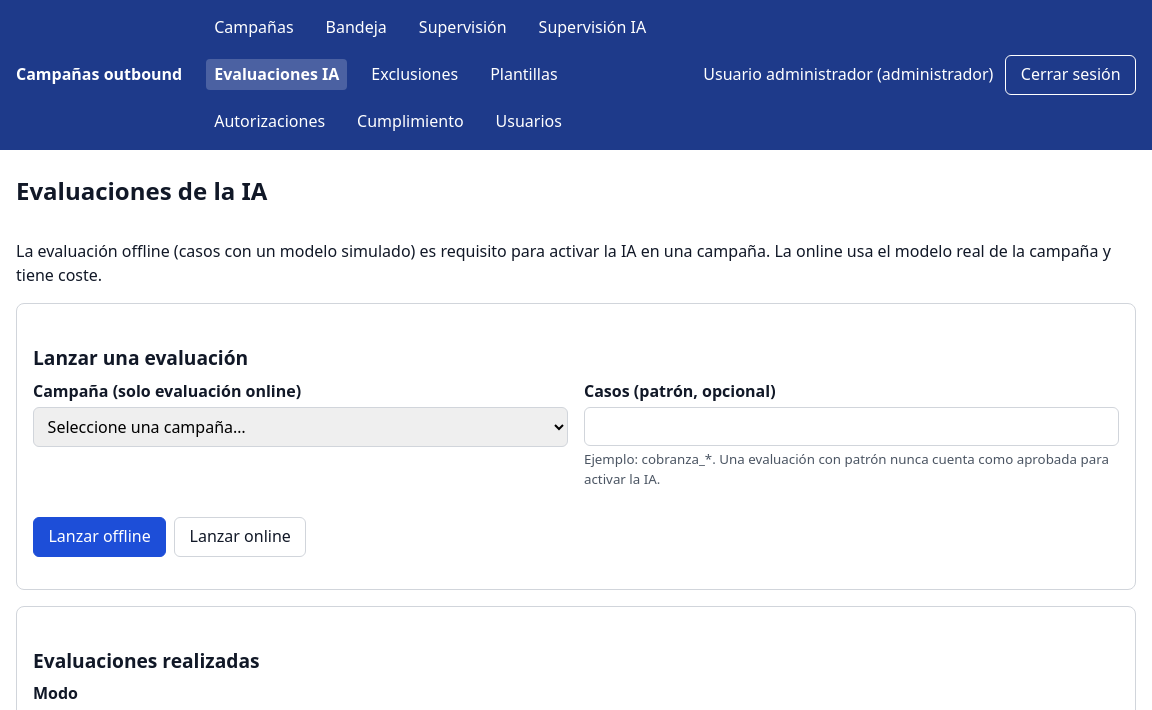
Evaluaciones de la IA (F23) › online exige campaña antes de enviar y explica de forma legible el 409 IA_PROVEEDOR_NO_CONFIGURADO
Click the button "Lanzar online". click: (240, 537)
box: x1=174 y1=517 x2=306 y2=557
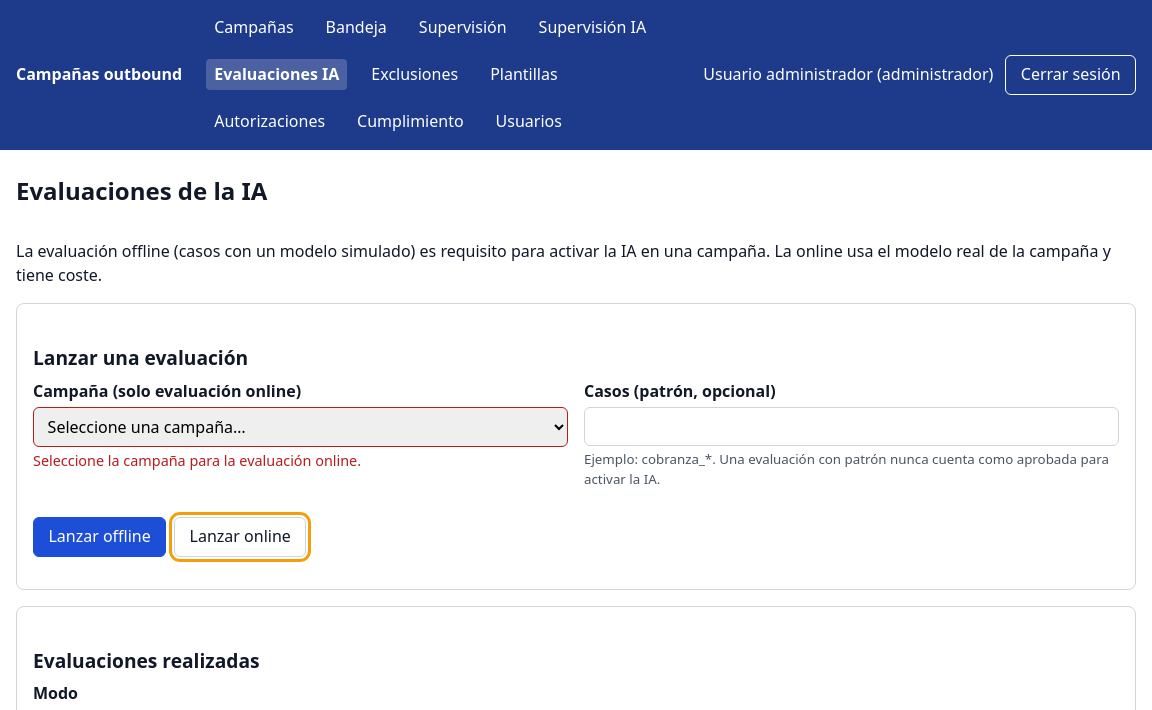
Check: the text "Seleccione la campaña para la evaluación online." is shown, box x1=33 y1=451 x2=361 y2=470
Select "Cobranza cartera octubre" in the dropdown labelled "Campaña (solo evaluación online)". click: (300, 427)
box: x1=33 y1=407 x2=568 y2=447
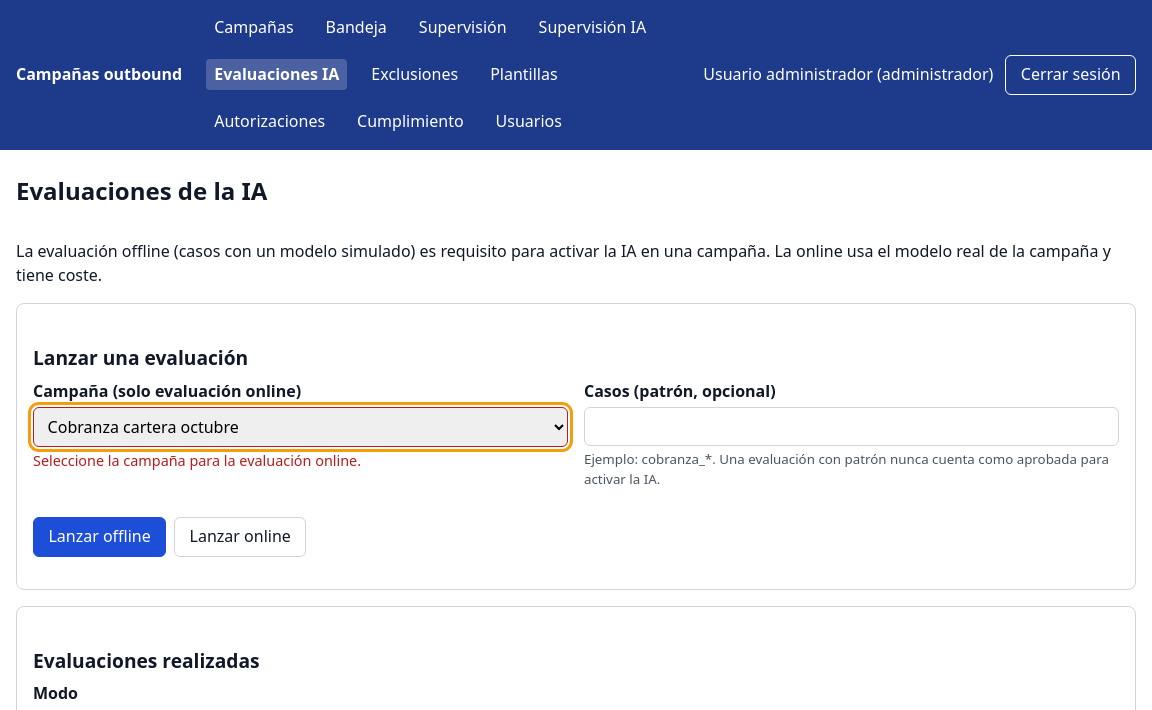
Type "cobranza_*" into the field labelled "Casos (patrón, opcional)". click: (852, 427)
box: x1=584 y1=407 x2=1119 y2=446
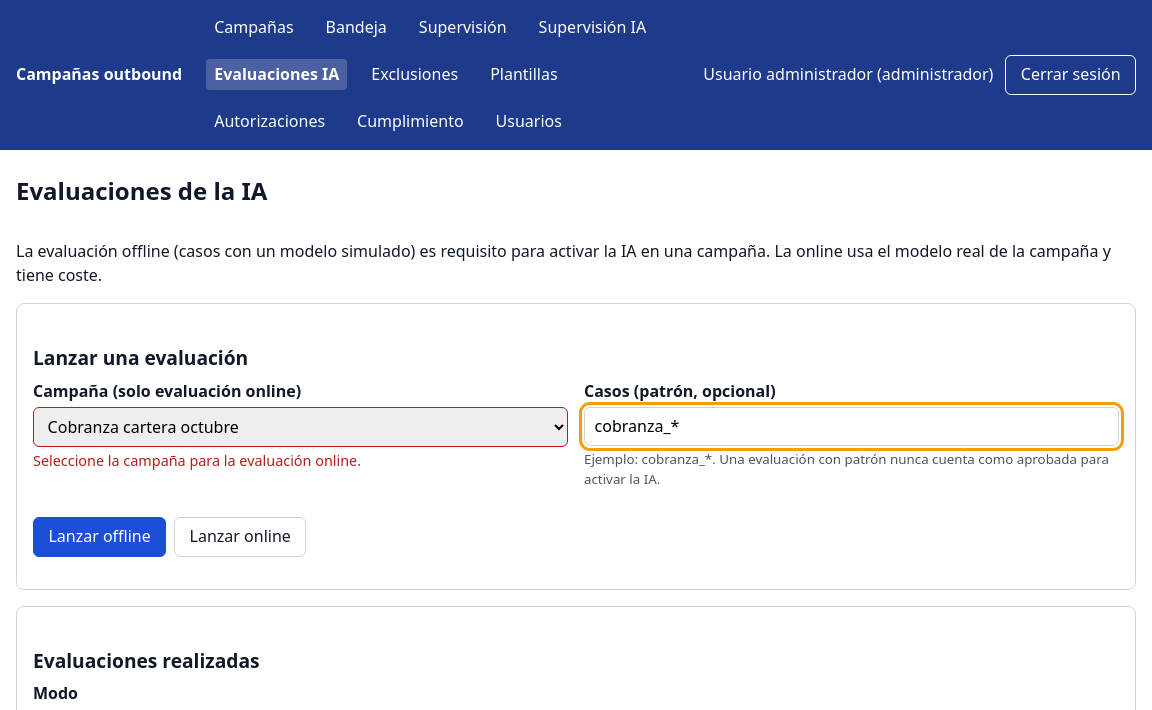
Click the button "Lanzar online". click: (240, 537)
box: x1=174 y1=517 x2=306 y2=557
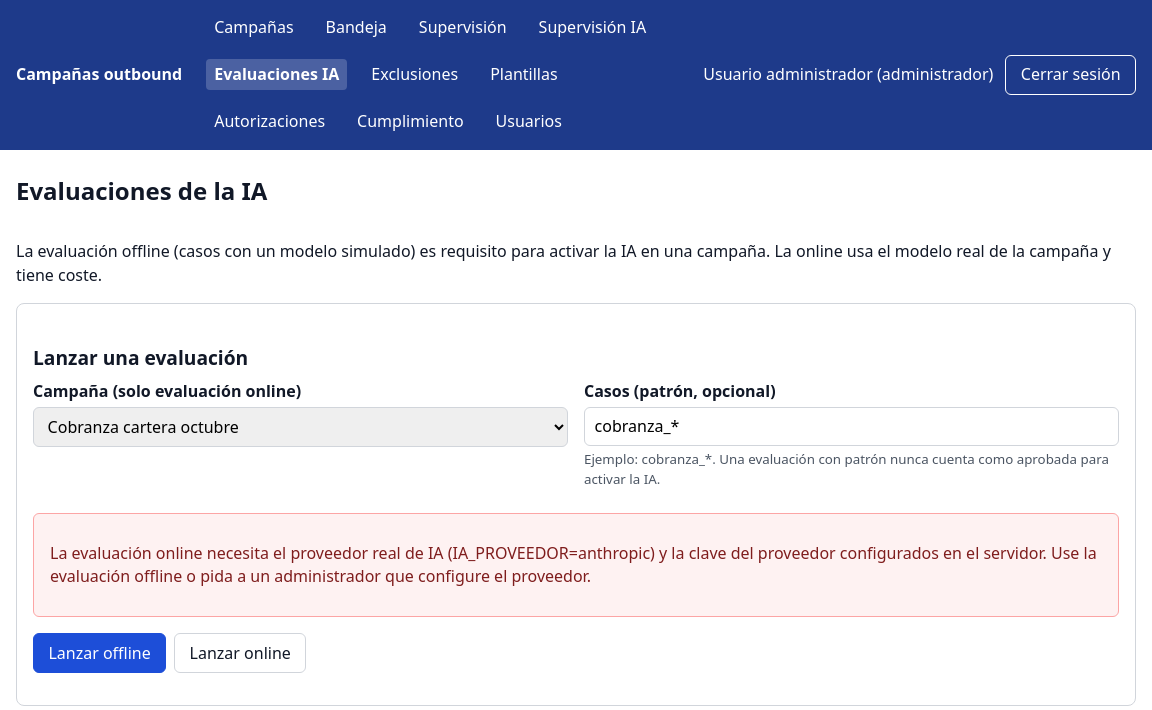
Check: the text "necesita el proveedor real de IA" is shown, box x1=50 y1=542 x2=1097 y2=587
